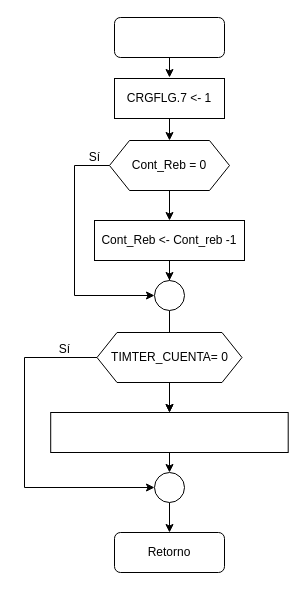
This 306x590 diagram has some shape labels left out. Here are the shapes that lost their labels. From the top down, the centre of each, then its label:
At [169,37]: "RTI_ISR".
At [169,432]: "TIMTER_CUENTA <- TIMTER_CUENTA -1".
